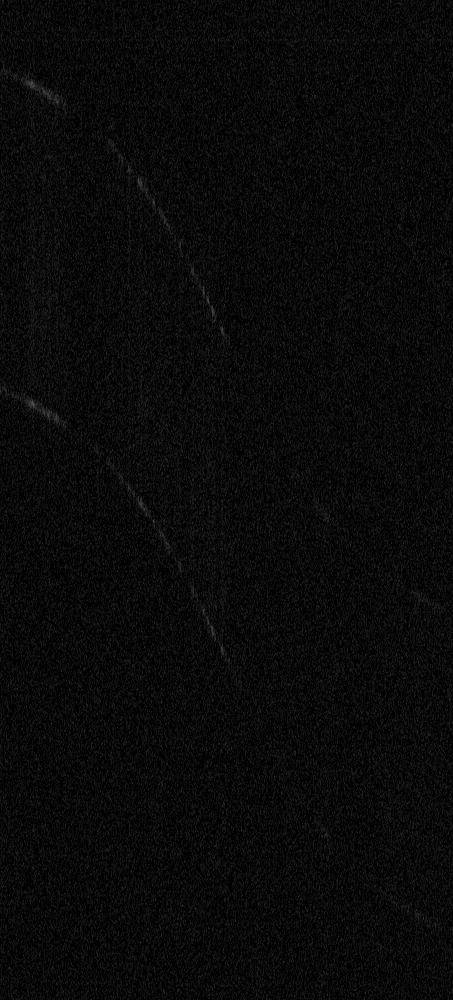signal: (0, 0, 452, 999)
